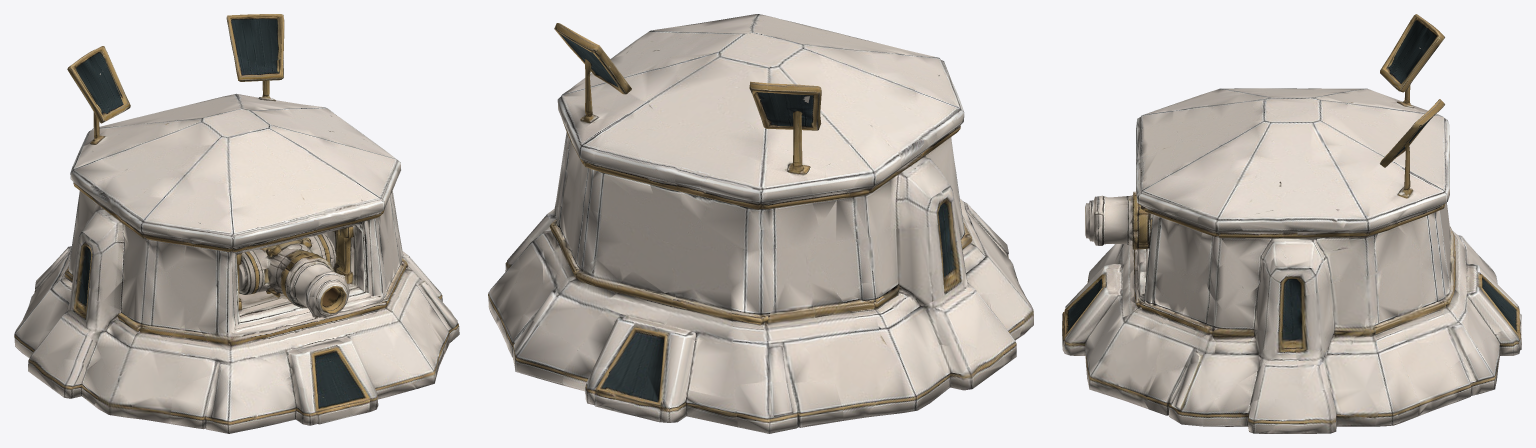
The model's file is meridian-glaive-v2.glb.
3 renders of one model, left to right at view 1: azimuth 30°, elevation 25°; view 2: azimuth 150°, elevation 25°; view 3: azimuth 270°, elevation 25°, orthographic. The views are drawn at different scales.
Visible parts, largest first — view 1: mesh_node; view 2: mesh_node; view 3: mesh_node.
Part boxes in pixels (box(x1,y1,x2,y2)): mesh_node: box(14, 14, 459, 433); mesh_node: box(488, 14, 1033, 433); mesh_node: box(1062, 14, 1521, 433).
Size of the model in its own units: 2 by 1.29 by 2.
Materials: 1 (1 with a texture image).
